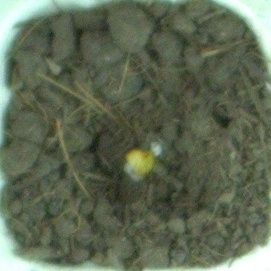chilli seed: (125, 148, 154, 175)
